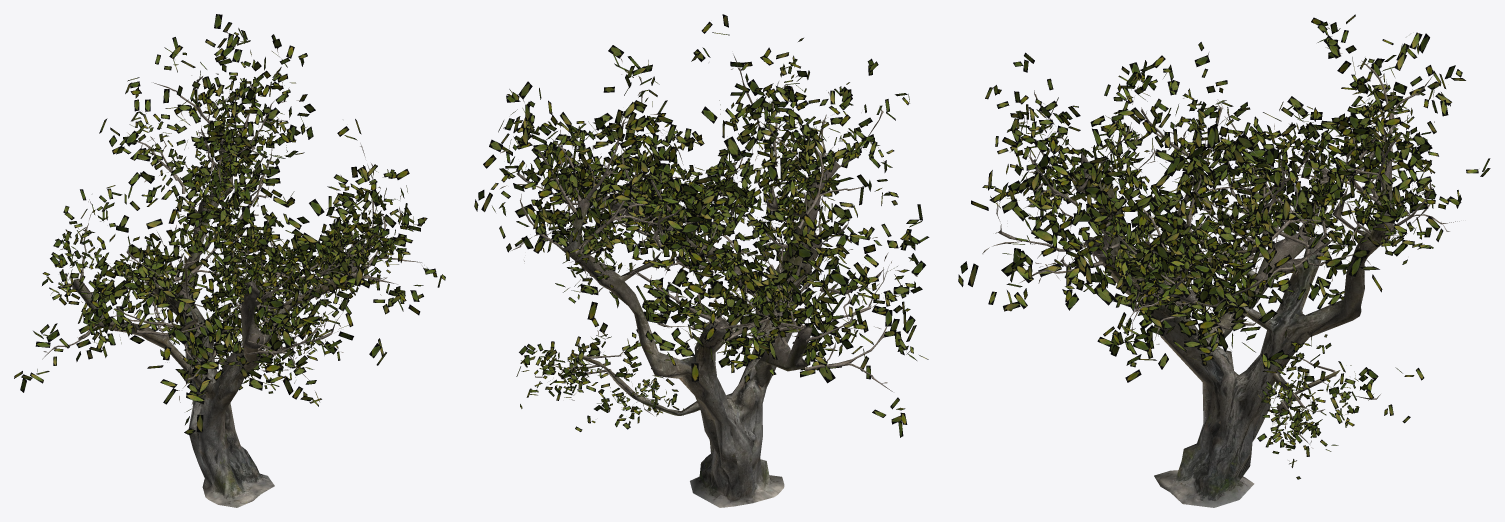
Rendered from island-tree.glb.
3 views of the same model, side by side, from view 1: azimuth 30°, elevation 25°; view 2: azimuth 150°, elevation 25°; view 3: azimuth 270°, elevation 25° (orthographic). The views are drawn at different scales.
Parts seen in each view (by area): view 1: island_tree_01_LOD0; view 2: island_tree_01_LOD0; view 3: island_tree_01_LOD0.
Part boxes in pixels (bbox=[...]): island_tree_01_LOD0: bbox=[14, 14, 445, 507]; island_tree_01_LOD0: bbox=[474, 14, 929, 507]; island_tree_01_LOD0: bbox=[958, 14, 1490, 507].
Bounding box in the file's own units: 4.79 × 4.94 × 4.77.
Materials: 3 (3 with a texture image).
